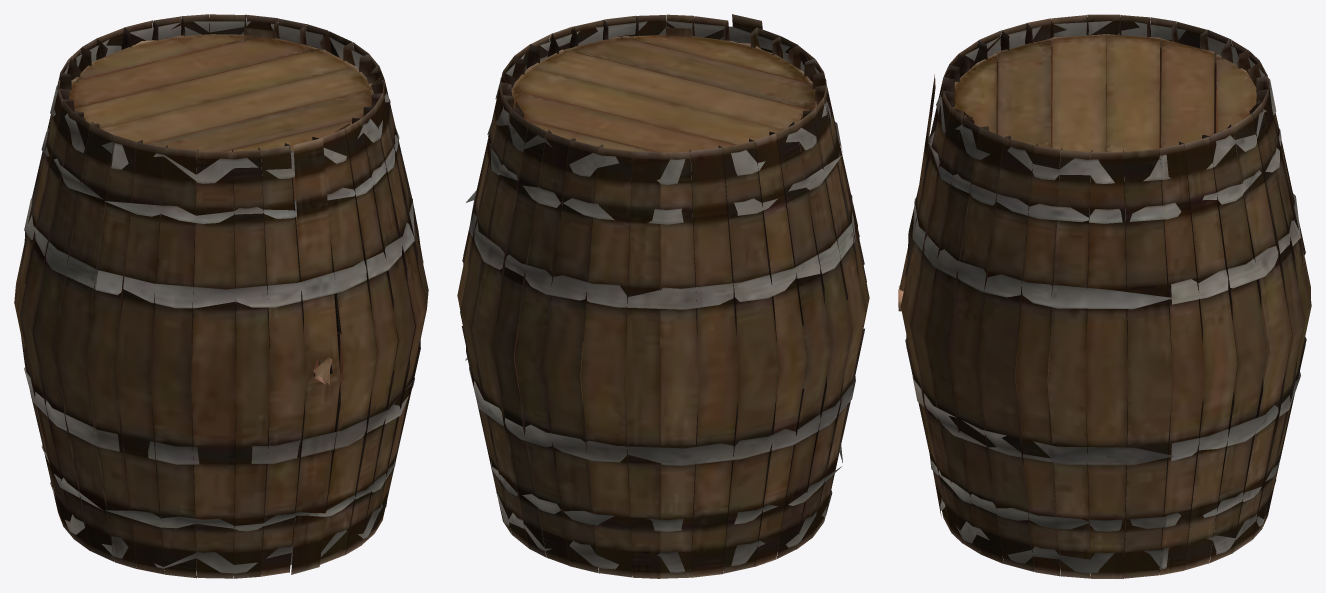
The model's file is barrel.glb.
3 views of the same model, side by side, from view 1: azimuth 30°, elevation 25°; view 2: azimuth 150°, elevation 25°; view 3: azimuth 270°, elevation 25° (orthographic).
Parts seen in each view (by area): view 1: wine_barrel_01_Lid; view 2: wine_barrel_01_Lid; view 3: wine_barrel_01_Lid.
Part boxes in pixels (bbox=[...]): wine_barrel_01_Lid: bbox=[14, 14, 428, 578]; wine_barrel_01_Lid: bbox=[457, 14, 869, 578]; wine_barrel_01_Lid: bbox=[898, 14, 1311, 578].
Size of the model in its own units: 0.761 by 0.8804 by 0.7632.
Materials: 1 (1 with a texture image).
